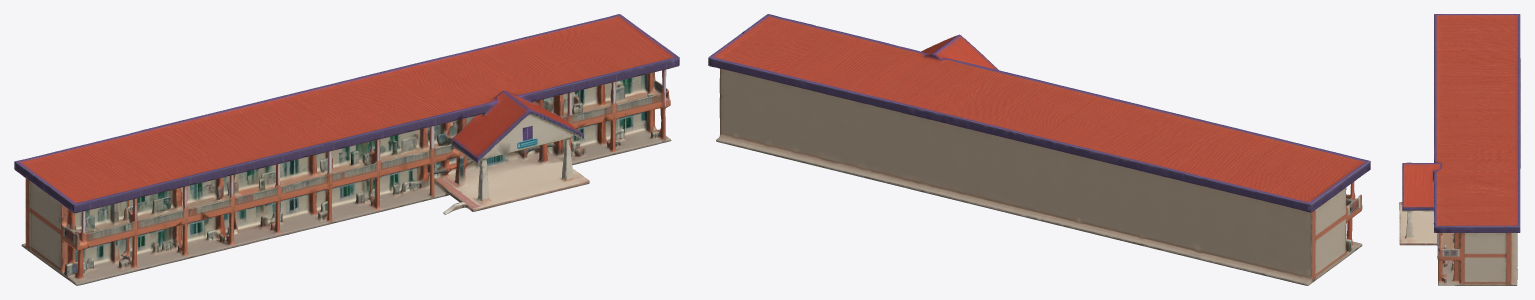
The model's file is bid_14.glb.
The picture shows the model from 3 angles, left to right: view 1: azimuth 30°, elevation 25°; view 2: azimuth 150°, elevation 25°; view 3: azimuth 270°, elevation 25°; orthographic projection. The views are drawn at different scales.
Size of the model in its own units: 1.9 by 0.271 by 0.4564.
Materials: 1 (1 with a texture image).
